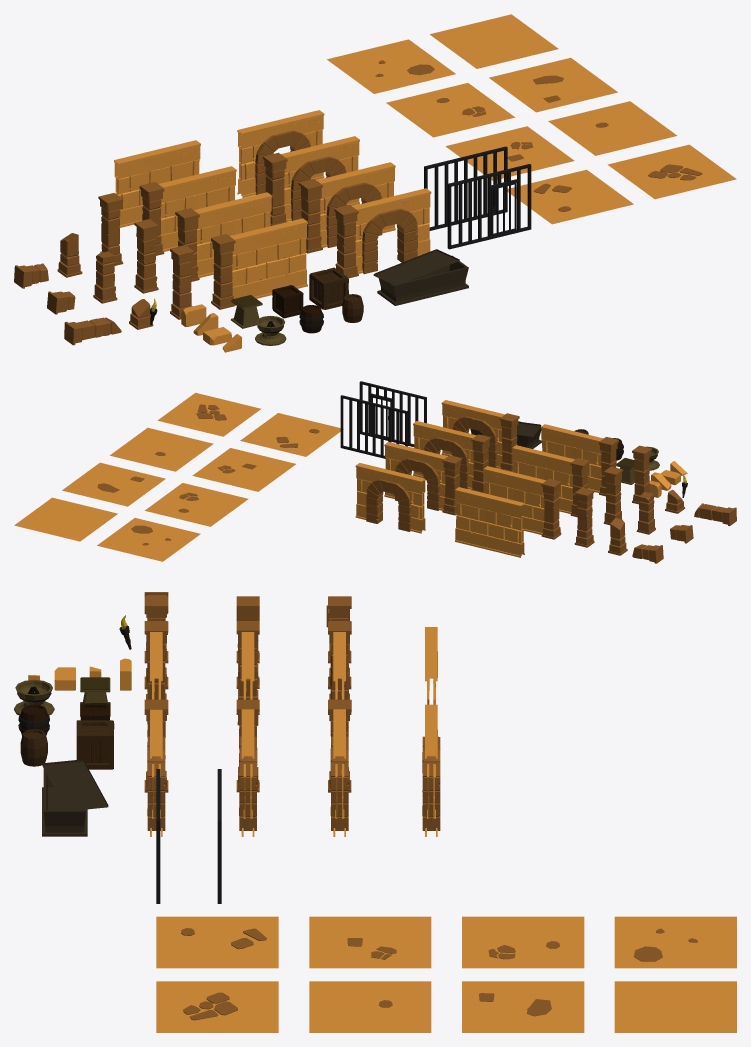
Rendered from ModularDungeonSandBiome-Assets.obj.
3 renders of one model, top to bottom at view 1: azimuth 30°, elevation 25°; view 2: azimuth 150°, elevation 25°; view 3: azimuth 270°, elevation 25°, orthographic. The views are drawn at different scales.
Parts seen in each view (by area): view 1: Pillar1Wall1, Pillar1Door, Pillar2Door, Pillar3Door, Pillar2Wall1, Pillar3Wall1, Door1WithoutPillar, Floor1, Floor3, Floor4, Floor8, Floor2 (+21 smaller); view 2: WallwithoutPillar, Door1WithoutPillar, Pillar3Wall1, Pillar3Door, Pillar2Door, Pillar1Door, Pillar2Wall1, Pillar1Wall1, Floor1, Floor4, Floor3, Floor5 (+17 smaller); view 3: Floor7, Floor1, Floor2, Floor5, Floor3, Floor4, Floor6, Floor8, Sarcophagus, Pillar2Door, Pillar3Door, Pillar1Door (+12 smaller).
Boxes of the visible parts, x1=… form: Pillar1Wall1: x1=211, y1=218, x2=307, y2=309; Pillar1Door: x1=334, y1=188, x2=431, y2=278; Pillar2Door: x1=298, y1=162, x2=395, y2=253; Pillar3Door: x1=263, y1=136, x2=359, y2=225; Pillar2Wall1: x1=175, y1=192, x2=272, y2=281; Pillar3Wall1: x1=139, y1=166, x2=236, y2=255; Door1WithoutPillar: x1=237, y1=110, x2=324, y2=197; Floor1: x1=386, y1=83, x2=515, y2=137; Floor3: x1=489, y1=57, x2=617, y2=112; Floor4: x1=548, y1=101, x2=677, y2=155; Floor8: x1=430, y1=14, x2=558, y2=68; Floor2: x1=327, y1=39, x2=455, y2=93; WallwithoutPillar: x1=455, y1=487, x2=524, y2=557; Door1WithoutPillar: x1=355, y1=463, x2=425, y2=533; Pillar3Wall1: x1=483, y1=466, x2=561, y2=539; Pillar3Door: x1=384, y1=442, x2=461, y2=515; Pillar2Door: x1=413, y1=421, x2=490, y2=493; Pillar1Door: x1=441, y1=400, x2=519, y2=472; Pillar2Wall1: x1=512, y1=445, x2=589, y2=517; Pillar1Wall1: x1=541, y1=424, x2=618, y2=496; Floor1: x1=144, y1=483, x2=248, y2=526; Floor4: x1=110, y1=427, x2=213, y2=471; Floor3: x1=62, y1=462, x2=165, y2=506; Floor5: x1=192, y1=448, x2=295, y2=491; Floor7: x1=156, y1=916, x2=278, y2=968; Floor1: x1=462, y1=916, x2=584, y2=968; Floor2: x1=614, y1=916, x2=736, y2=968; Floor5: x1=309, y1=916, x2=431, y2=968; Floor3: x1=462, y1=981, x2=584, y2=1032; Floor4: x1=309, y1=981, x2=431, y2=1032; Floor6: x1=156, y1=981, x2=278, y2=1032; Floor8: x1=614, y1=981, x2=736, y2=1032; Sarcophagus: x1=42, y1=759, x2=108, y2=836; Pillar2Door: x1=236, y1=699, x2=259, y2=836; Pillar3Door: x1=328, y1=699, x2=351, y2=836; Pillar1Door: x1=144, y1=699, x2=168, y2=836.
Bounding box in the file's own units: 32.52 × 3.15 × 23.66.
